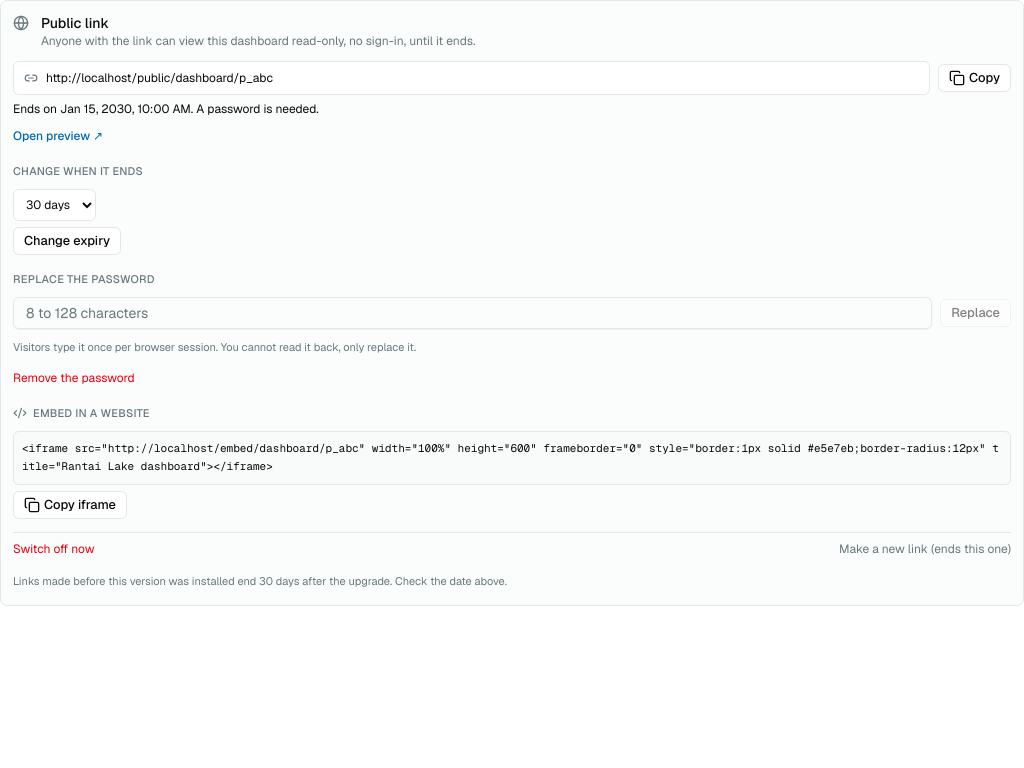
Scenario: PublicLinkPanel › switches the link off and then offers to make a new one
What coordinates should you click on to do the following:
click the button "Switch off now"
I would click on:
 (54, 549)
Its box is [13, 541, 94, 557].
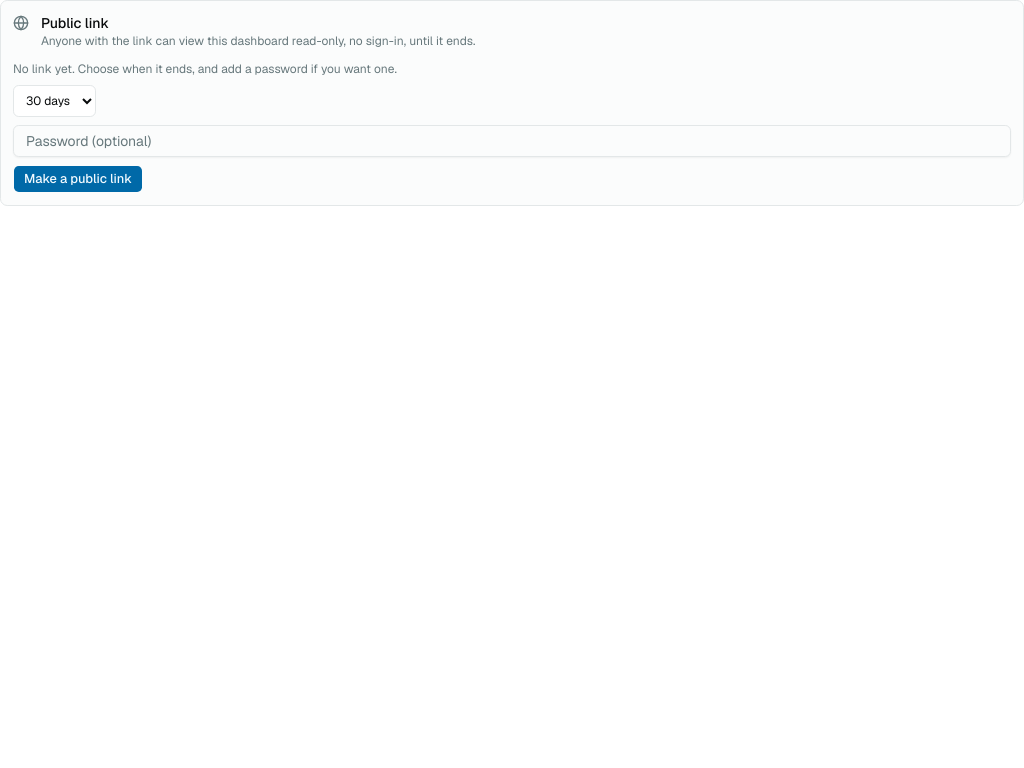
Expected: the button "Make a public link" is shown, [13, 165, 143, 193]
